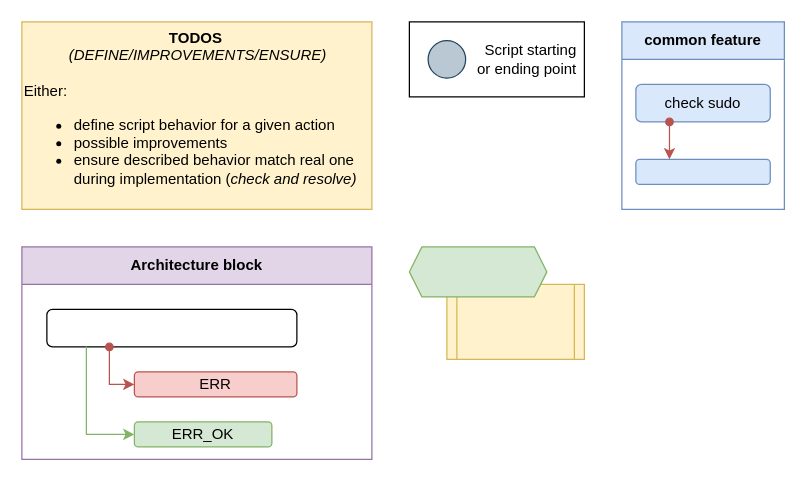
The diagram is 806 pixels wide and 481 high, and some of its shapes have lost their labels. The shapes that lost their labels are listed below. From the top down, each one's centre as x and y in pixels, then its label:
At [702,171]: "ERR_SUDO".
At [477,271]: "HW event udev/udevman".
At [171,327]: "Feature implementation description".
At [515,321]: "Service systemd".
